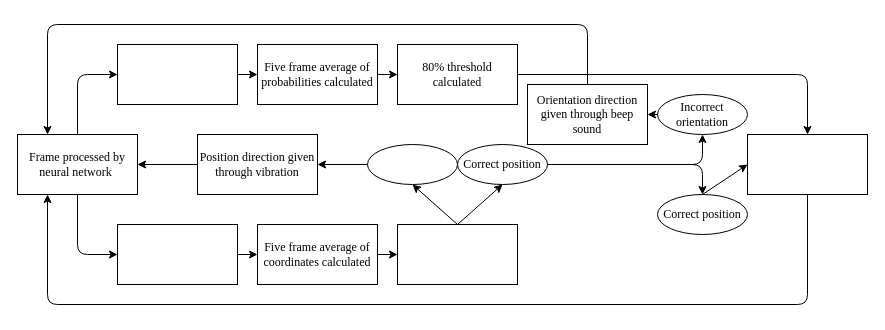
Image size: 885x330. Some labels were removed from this diagram. The shapes that lost their labels are listed below. From the top down, each one's box as (x1, y1, x2, y2) in pixels, then its label:
(116, 44, 238, 104): Probability array stored in memory
(366, 144, 458, 184): Incorrect position
(746, 134, 868, 194): Color given through audio message every change in color or three seconds
(116, 224, 238, 284): Coordinates stored in memory
(396, 224, 518, 284): Coordinates transformed to bird-eye coordinates
